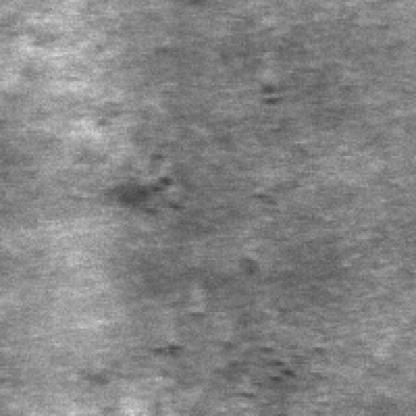rolled-in_scale: (204, 326, 299, 414), (102, 152, 196, 218)
